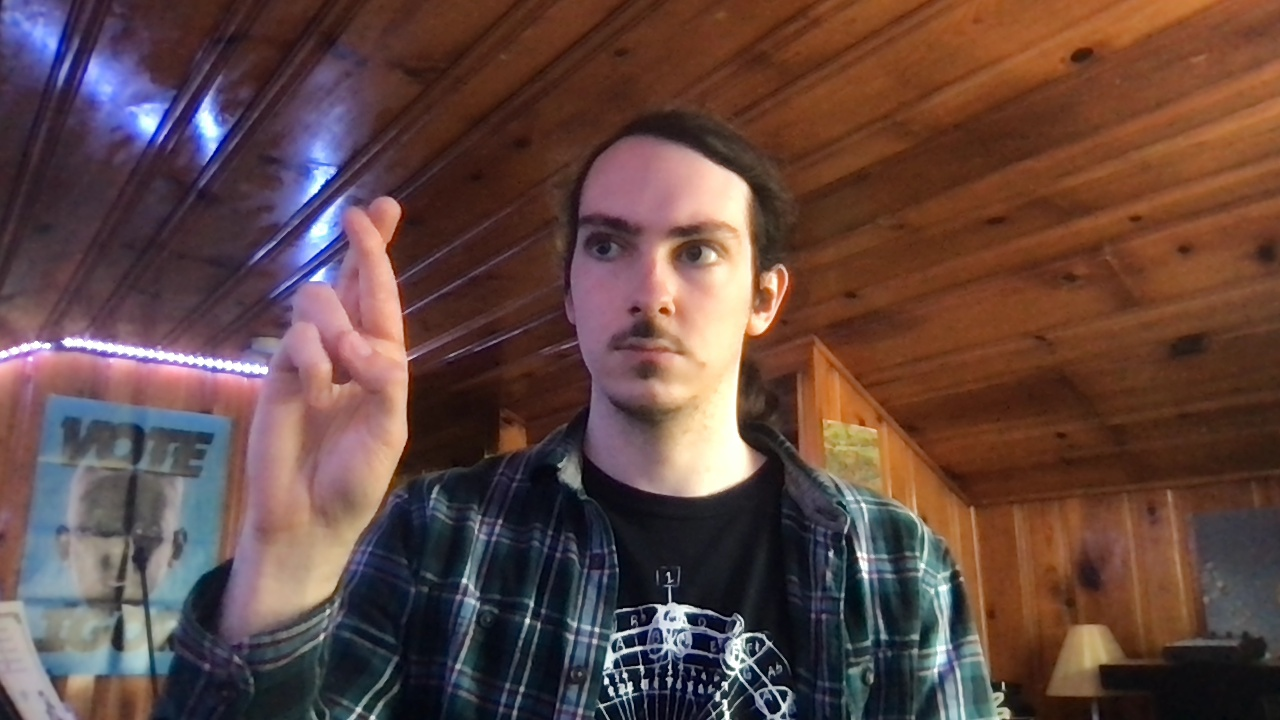r: (244, 194, 410, 540)
